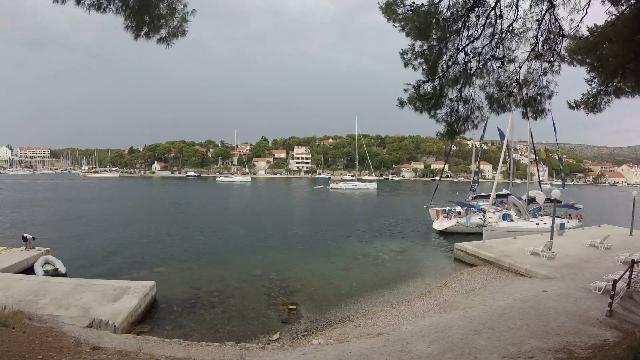Sailboat: (322, 174, 382, 192), (214, 170, 254, 186)
